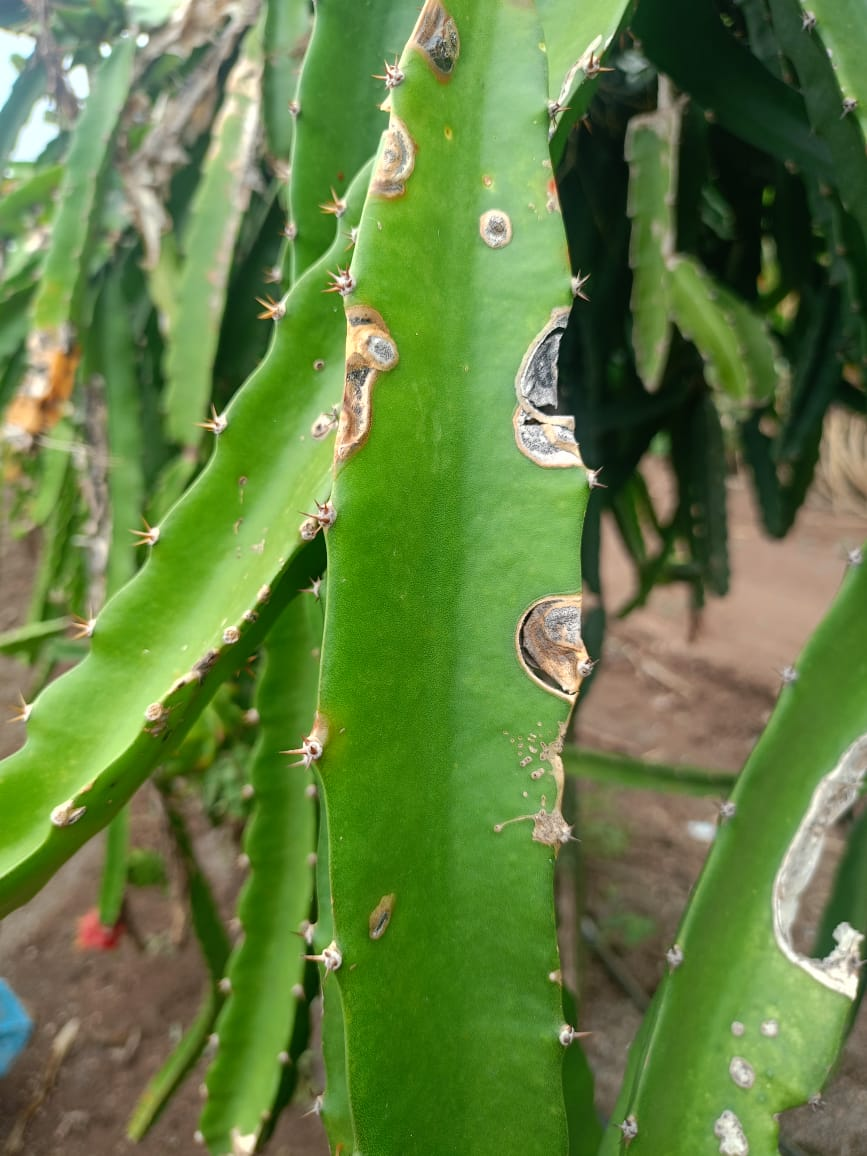stemcanker: (313, 1, 604, 1156), (687, 714, 867, 1156), (2, 159, 101, 567)
